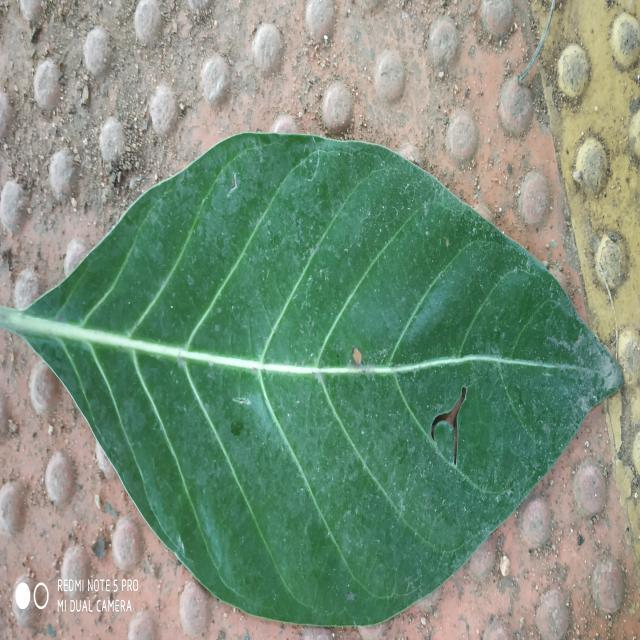leaf: (0, 129, 624, 627)
